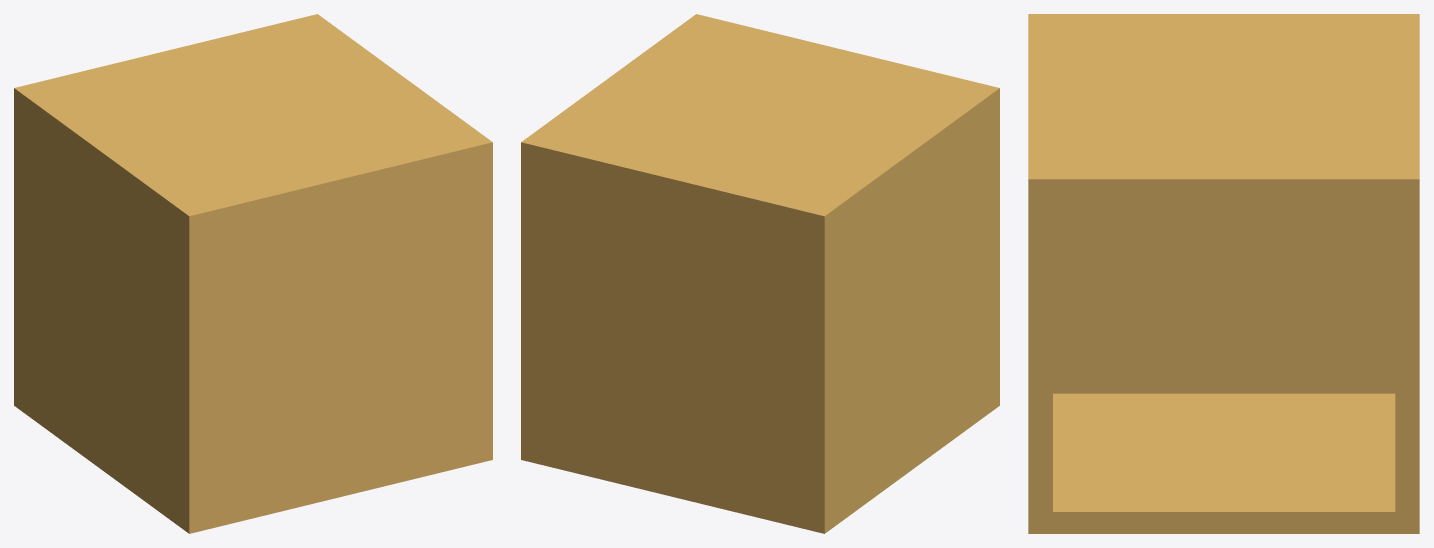
Rendered from cube_storage_wood.glb.
3 renders of one model, left to right at view 1: azimuth 30°, elevation 25°; view 2: azimuth 150°, elevation 25°; view 3: azimuth 270°, elevation 25°, orthographic. The views are drawn at different scales.
Parts seen in each view (by area): view 1: cube-storage-wood; view 2: cube-storage-wood; view 3: cube-storage-wood.
Part boxes in pixels (x1,y1,x2,y2): cube-storage-wood: (14,14,492,533); cube-storage-wood: (521,14,999,533); cube-storage-wood: (1028,14,1419,533).
Size of the model in its own units: 0.3834 by 0.3834 by 0.3834.
